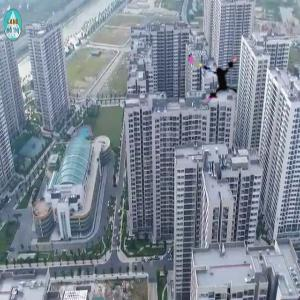drone: (183, 44, 248, 109)
